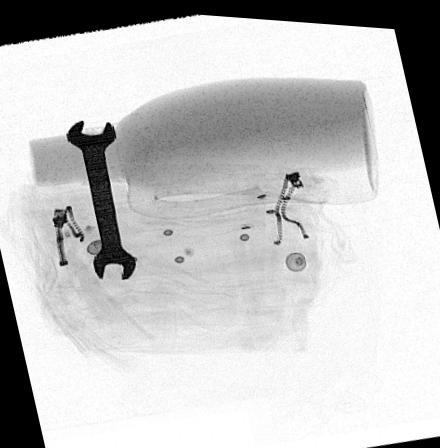Wrench: (66, 114, 139, 280)
